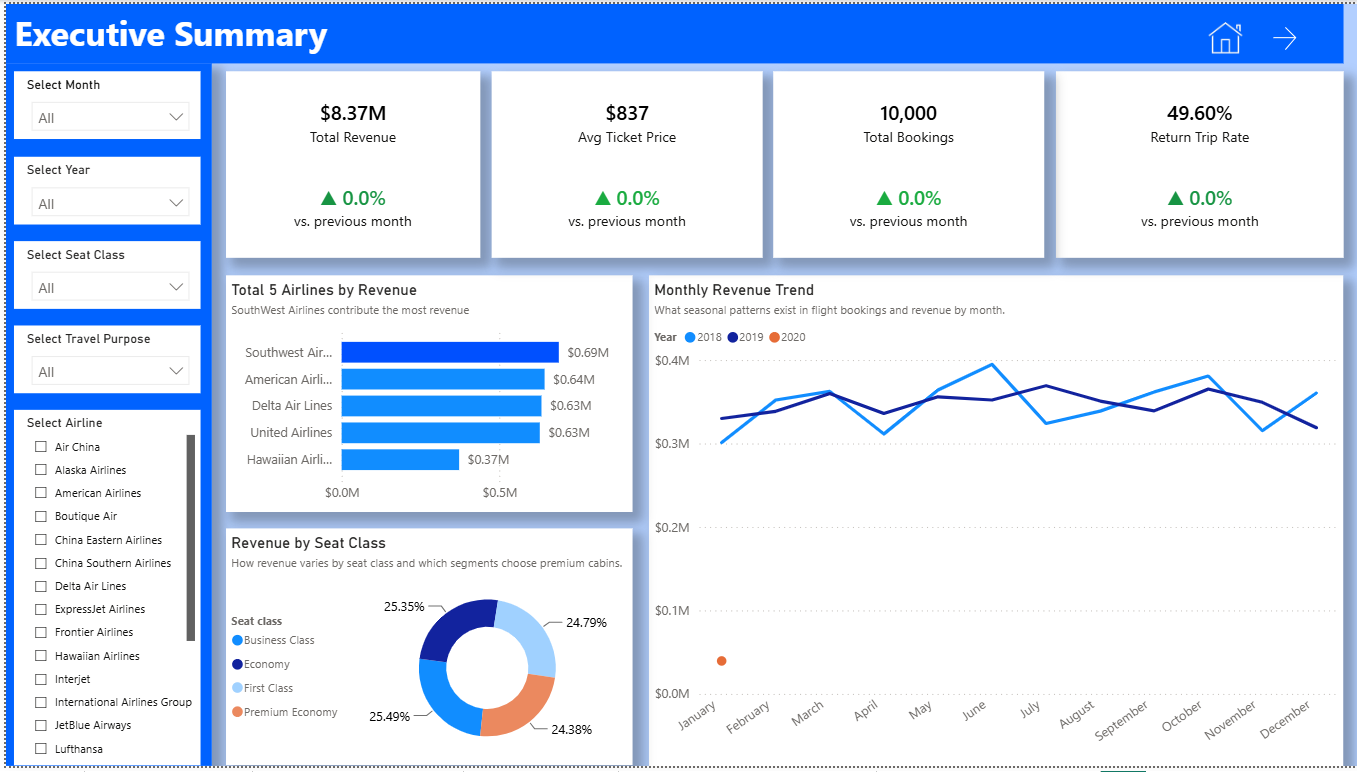

The dashboard page shown, as its layout file describes it:
{"tool":"powerbi","page":{"name":"Executive Summary","canvas":[1280,720],"ordinal":1},"visuals":[{"type":"group","id":"g1","title":"Group 1","box":[0,0,1264,720],"z":0},{"type":"image","box":[1120,16,64,32],"z":1000},{"type":"shape","box":[0,56,194.5,664],"z":1000,"group":"g1"},{"type":"textbox","box":[0,0,1264,56],"z":2000,"group":"g1"},{"type":"cardVisual","fields":{"Data":["_Measures.Total Revenue","_Measures.Revenue Trend Icon"]},"box":[208,64,240,176],"z":2000},{"type":"actionButton","box":[1184,16,48,32],"z":3000},{"type":"slicer","title":"Select Month","fields":{"Values":["Date.Month Name"]},"box":[8,64,176,64],"z":3000,"group":"g1"},{"type":"slicer","title":"Select Year","fields":{"Values":["Date.Year"]},"box":[8,144,176,64],"z":4000,"group":"g1"},{"type":"lineChart","title":"Monthly Revenue Trend","fields":{"Category":["Date.Month Name"],"Y":["_Measures.Total Revenue"],"Series":["Date.Year"]},"box":[608,256,656,464],"z":4000},{"type":"slicer","title":"Select Seat Class","fields":{"Values":["Flights.Seat class"]},"box":[8,224,176,64],"z":5000,"group":"g1"},{"type":"clusteredBarChart","title":"Total 5 Airlines by Revenue","fields":{"Category":["Flights.Airlines"],"Y":["_Measures.Total Revenue"]},"box":[208,256,384,224],"z":5000},{"type":"slicer","title":"Select Travel Purpose","fields":{"Values":["Flights.Travel Purpose"]},"box":[8,304,176,64],"z":6000,"group":"g1"},{"type":"donutChart","title":"Revenue by Seat Class","fields":{"Y":["_Measures.Total Revenue"],"Category":["Flights.Seat class"]},"box":[208,496,384,224],"z":6000},{"type":"cardVisual","fields":{"Data":["_Measures.Avg Ticket Price","_Measures.Avg Price Trend Icon"]},"box":[458.7,64,256,176],"z":7000},{"type":"slicer","title":"Select Airline","fields":{"Values":["Flights.Airlines"]},"box":[8,384,176,336],"z":7000,"group":"g1"},{"type":"cardVisual","fields":{"Data":["_Measures.Return Trip Rate","_Measures.Return Rate Trend Icon"]},"box":[992,64,272,176],"z":8000},{"type":"cardVisual","fields":{"Data":["_Measures.Total Bookings","_Measures.Bookings Trend Icon"]},"box":[725.3,64,256,176],"z":9000}]}

Visuals, with their boxes in screenshot pixels (x1, y1, x2, y2), scaled from the page's 1280x720 canvas onto the 1357x772 screenshot:
"Group 1" group: {"left": 0, "top": 0, "right": 1340, "bottom": 771}
image: {"left": 1187, "top": 17, "right": 1255, "bottom": 51}
shape: {"left": 0, "top": 60, "right": 206, "bottom": 771}
textbox: {"left": 0, "top": 0, "right": 1340, "bottom": 60}
cardVisual - _Measures.Total Revenue x _Measures.Revenue Trend Icon: {"left": 221, "top": 69, "right": 475, "bottom": 257}
actionButton: {"left": 1255, "top": 17, "right": 1306, "bottom": 51}
"Select Month" slicer: {"left": 8, "top": 69, "right": 195, "bottom": 137}
"Select Year" slicer: {"left": 8, "top": 154, "right": 195, "bottom": 223}
"Monthly Revenue Trend" lineChart: {"left": 645, "top": 274, "right": 1340, "bottom": 771}
"Select Seat Class" slicer: {"left": 8, "top": 240, "right": 195, "bottom": 309}
"Total 5 Airlines by Revenue" clusteredBarChart: {"left": 221, "top": 274, "right": 628, "bottom": 515}
"Select Travel Purpose" slicer: {"left": 8, "top": 326, "right": 195, "bottom": 395}
"Revenue by Seat Class" donutChart: {"left": 221, "top": 532, "right": 628, "bottom": 771}
cardVisual - _Measures.Avg Ticket Price x _Measures.Avg Price Trend Icon: {"left": 486, "top": 69, "right": 758, "bottom": 257}
"Select Airline" slicer: {"left": 8, "top": 412, "right": 195, "bottom": 771}
cardVisual - _Measures.Return Trip Rate x _Measures.Return Rate Trend Icon: {"left": 1052, "top": 69, "right": 1340, "bottom": 257}
cardVisual - _Measures.Total Bookings x _Measures.Bookings Trend Icon: {"left": 769, "top": 69, "right": 1040, "bottom": 257}
